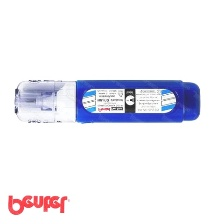correction_fluid: (10, 75, 203, 125)
